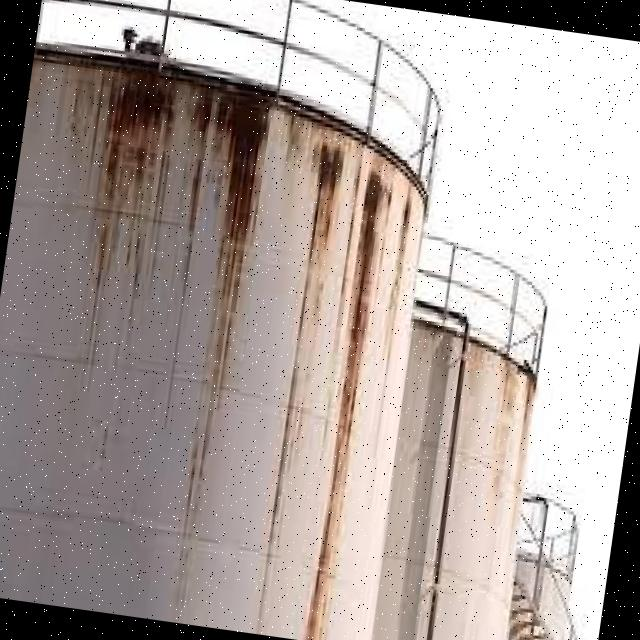Corrosion: (0, 41, 445, 640)
